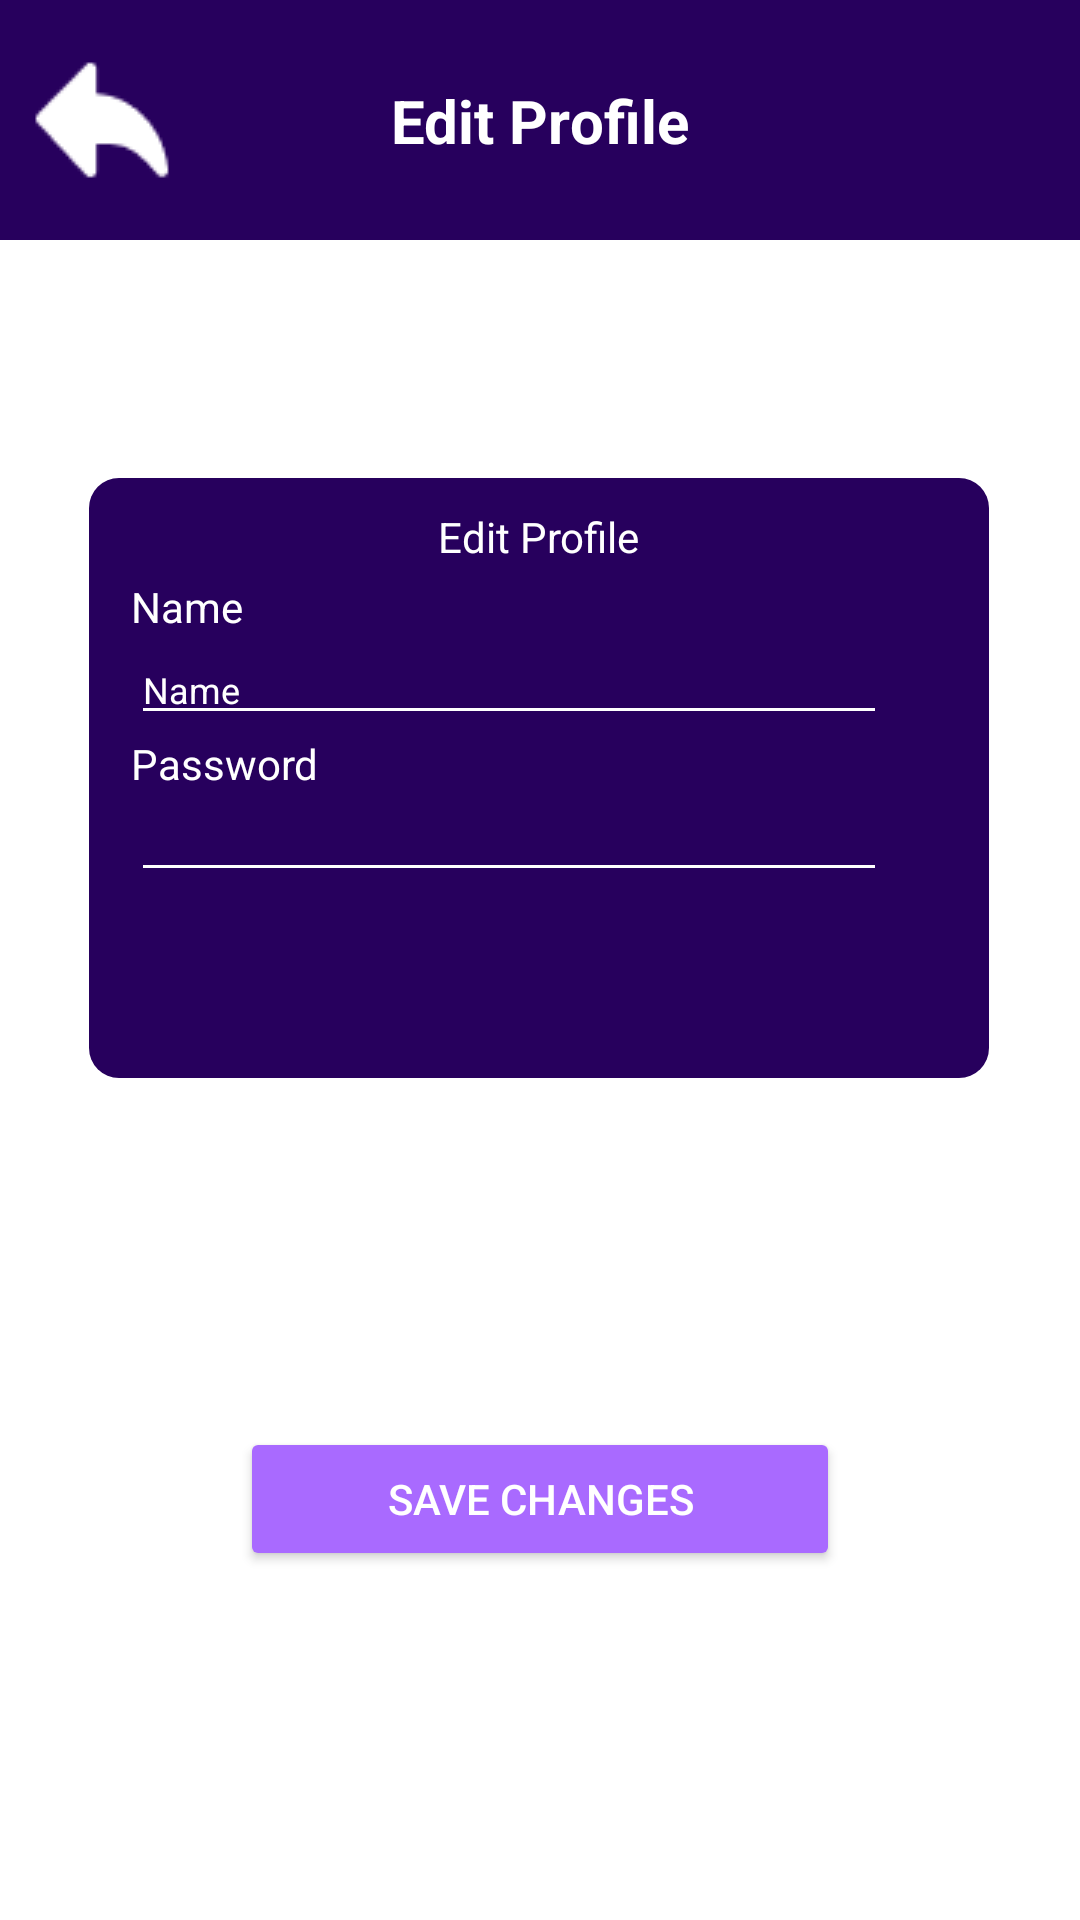

Icons on this 1080 x 1920 Android screen, each with the point to tap as (x,y):
backbutton: (102,120)
